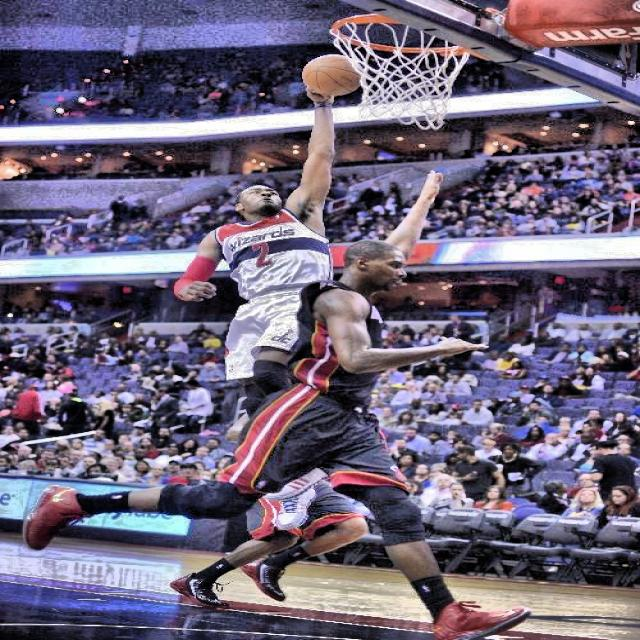board: (302, 53, 360, 97)
rim: (332, 13, 478, 125)
